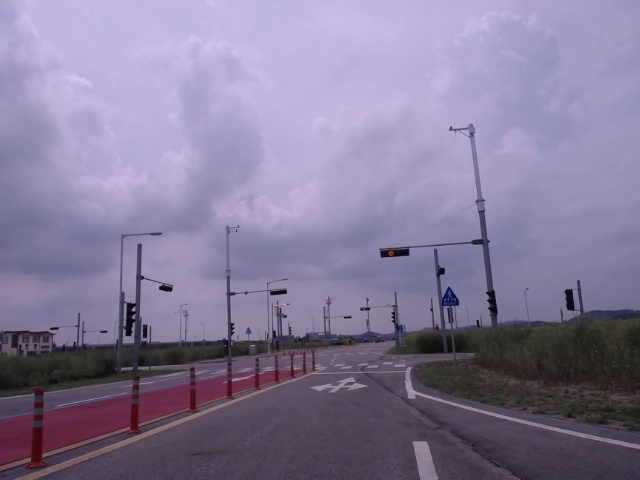orange_4: (379, 247, 411, 256), (357, 307, 372, 312)
